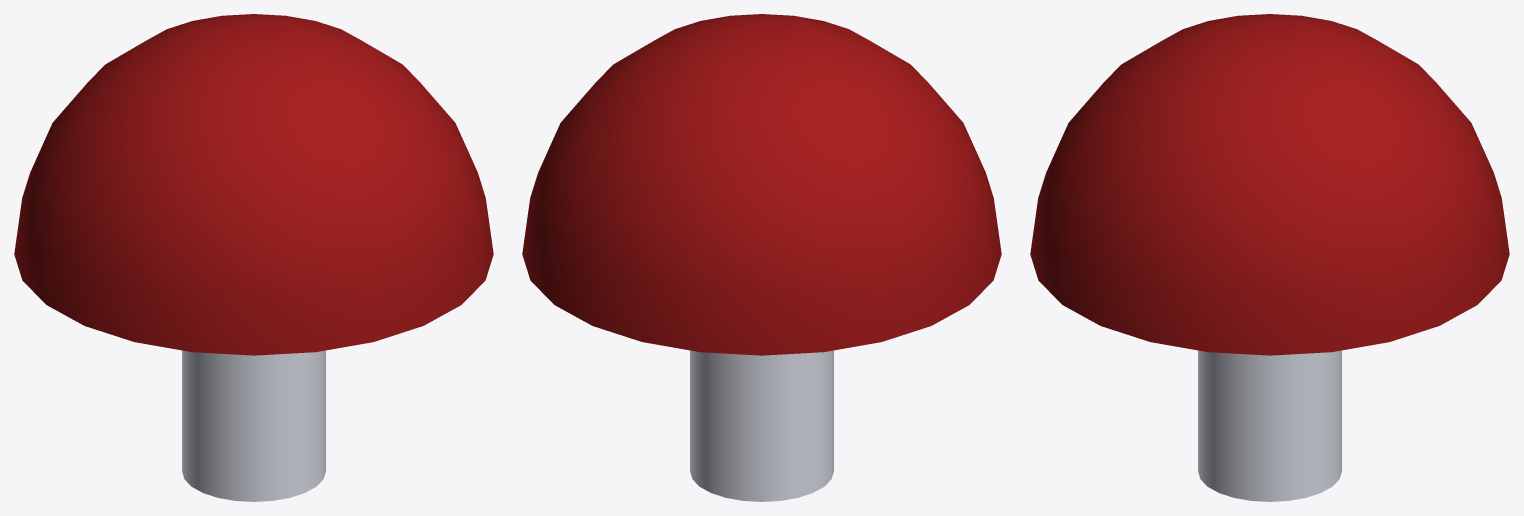
The model's file is Pilz.fbx.
3 views of the same model, side by side, from view 1: azimuth 30°, elevation 25°; view 2: azimuth 150°, elevation 25°; view 3: azimuth 270°, elevation 25° (orthographic).
Visible parts, largest first — view 1: mergedBlocks; view 2: mergedBlocks; view 3: mergedBlocks.
Part boxes in pixels (x1=…): mergedBlocks: x1=14, y1=14, x2=493, y2=501; mergedBlocks: x1=522, y1=14, x2=1001, y2=501; mergedBlocks: x1=1030, y1=14, x2=1509, y2=501.
Size of the model in its own units: 1 by 1 by 1.
